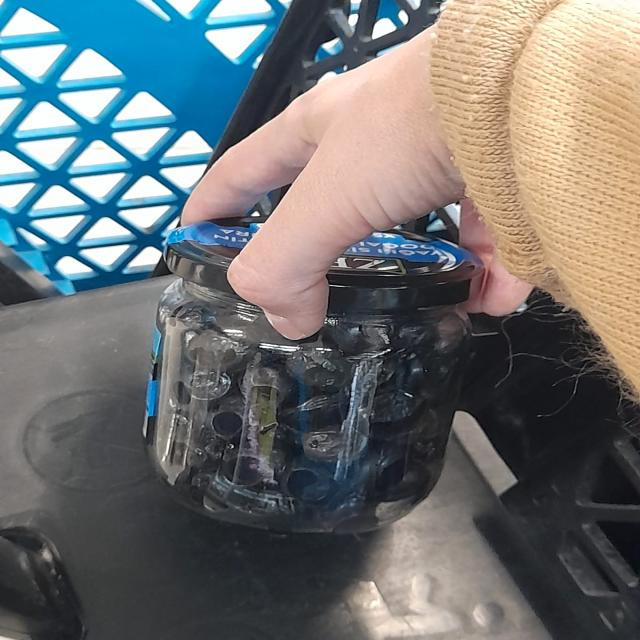olive: (140, 223, 500, 541), (212, 345, 447, 521)
